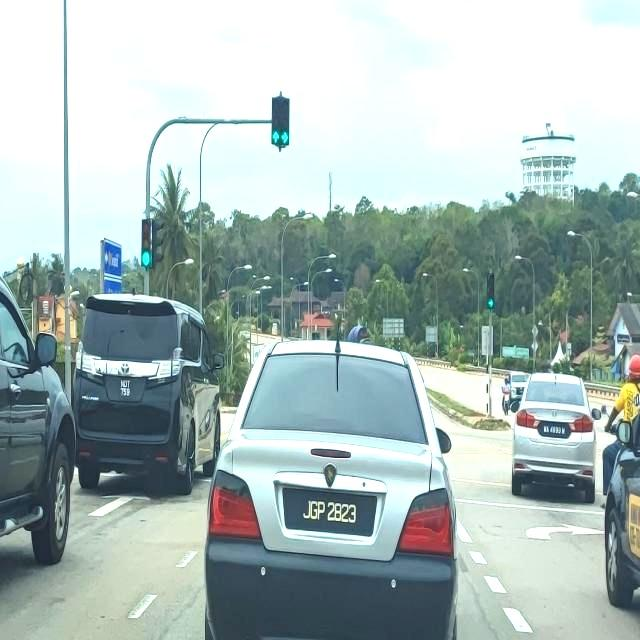Green: (140, 218, 151, 268), (280, 96, 290, 146), (271, 95, 281, 144), (488, 272, 494, 308)
